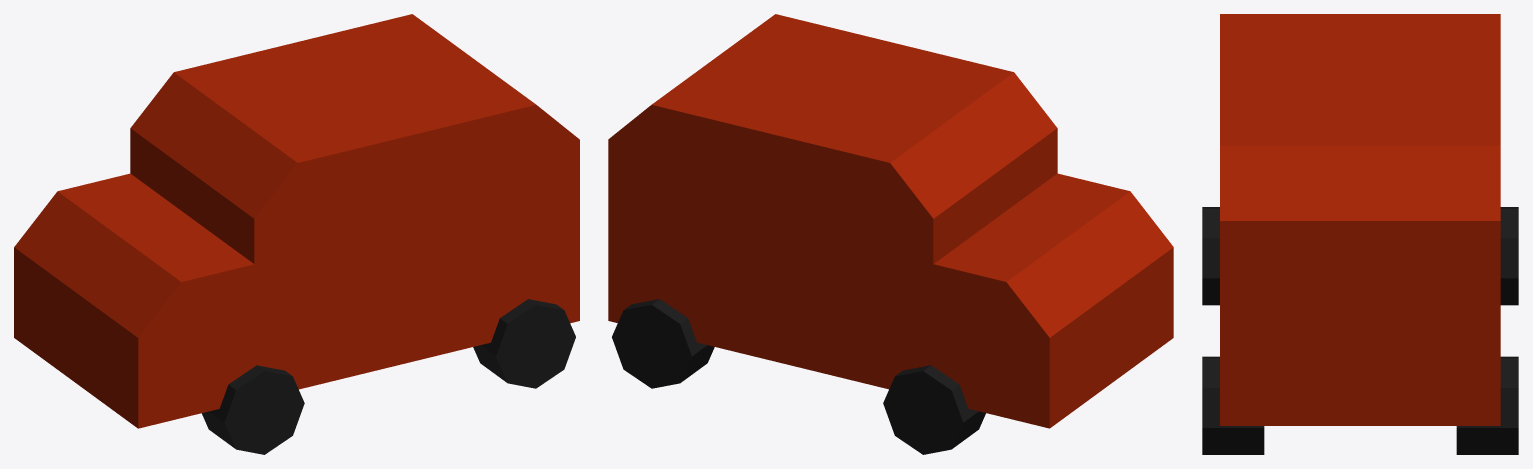
File: Supermarket_Car.fbx
The picture shows the model from 3 angles, left to right: view 1: azimuth 30°, elevation 25°; view 2: azimuth 150°, elevation 25°; view 3: azimuth 270°, elevation 25°; orthographic projection. The views are drawn at different scales.
Parts seen in each view (by area): view 1: SuperMarket_Car1; view 2: SuperMarket_Car1; view 3: SuperMarket_Car1.
Part boxes in pixels (bbox=[...]): SuperMarket_Car1: bbox=[14, 14, 579, 454]; SuperMarket_Car1: bbox=[608, 14, 1173, 454]; SuperMarket_Car1: bbox=[1202, 14, 1518, 454].
Bounding box in the file's own units: 23.85 × 14.25 × 13.09.
